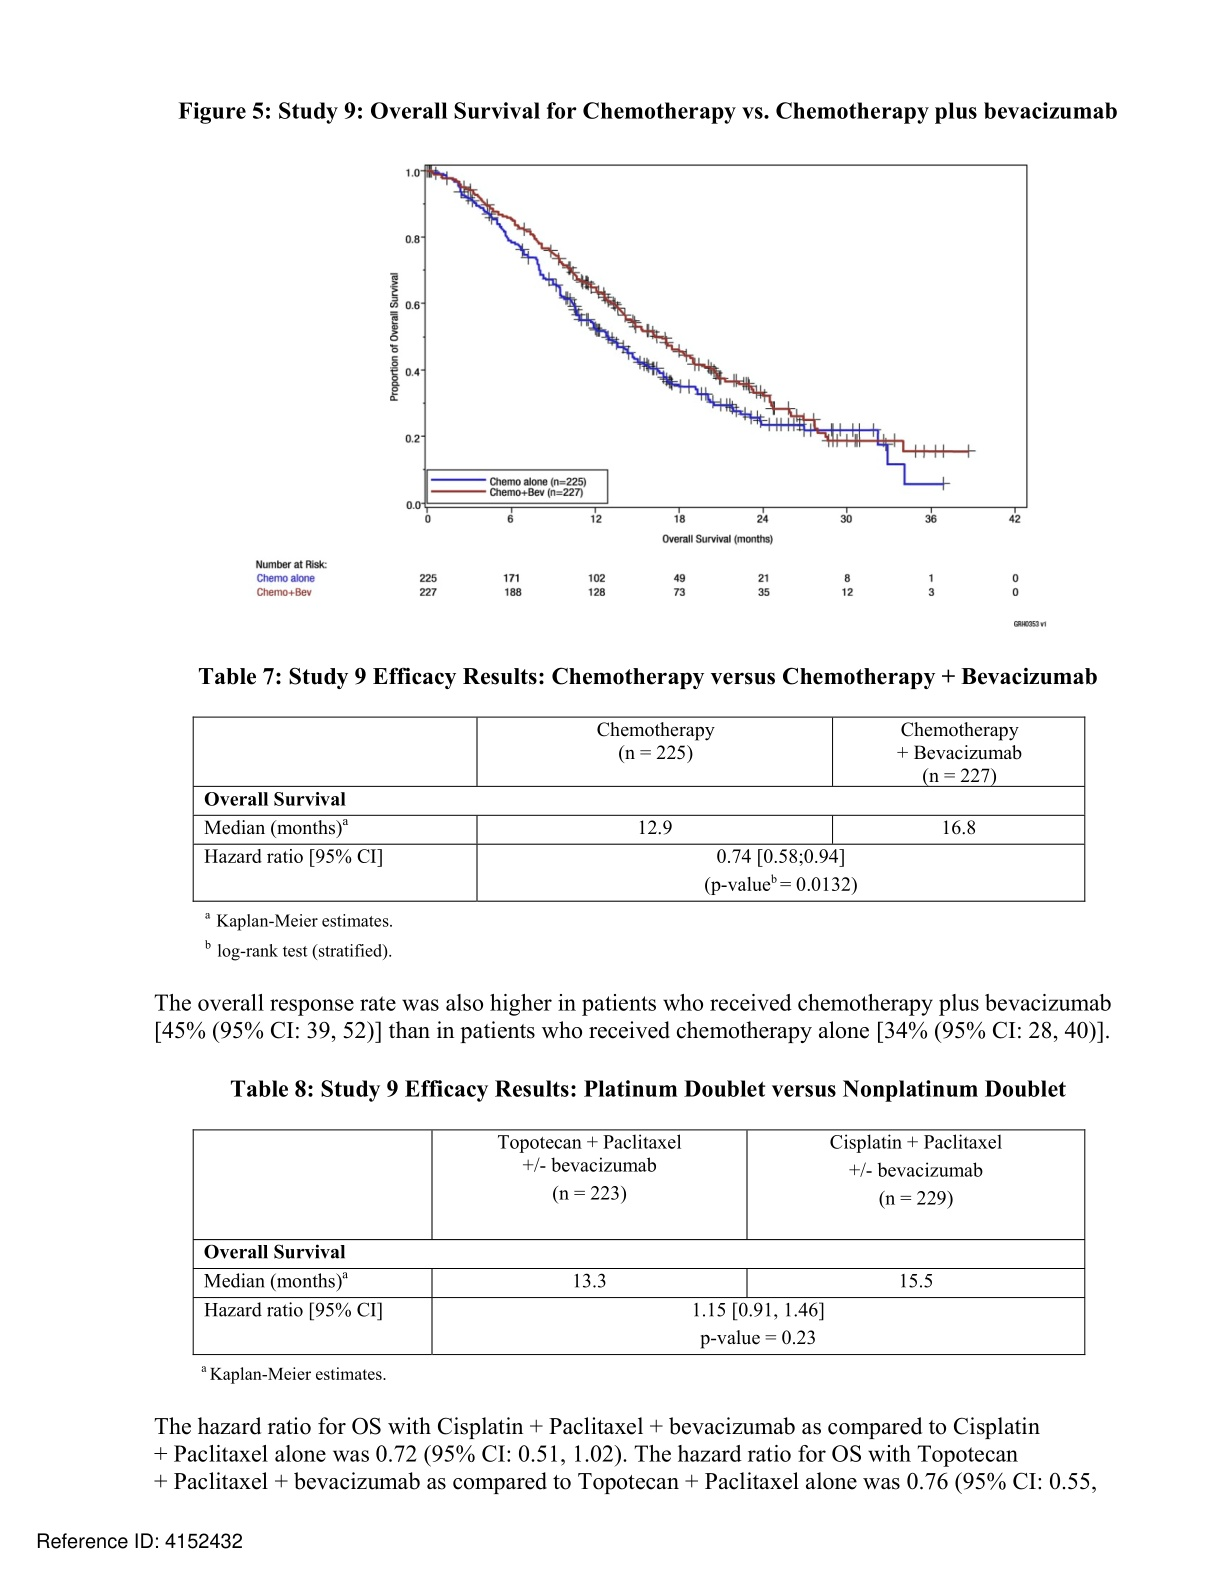merged_cells: (192, 1128, 1086, 1356), (192, 715, 1086, 903)
nolines: (256, 570, 1021, 598)
